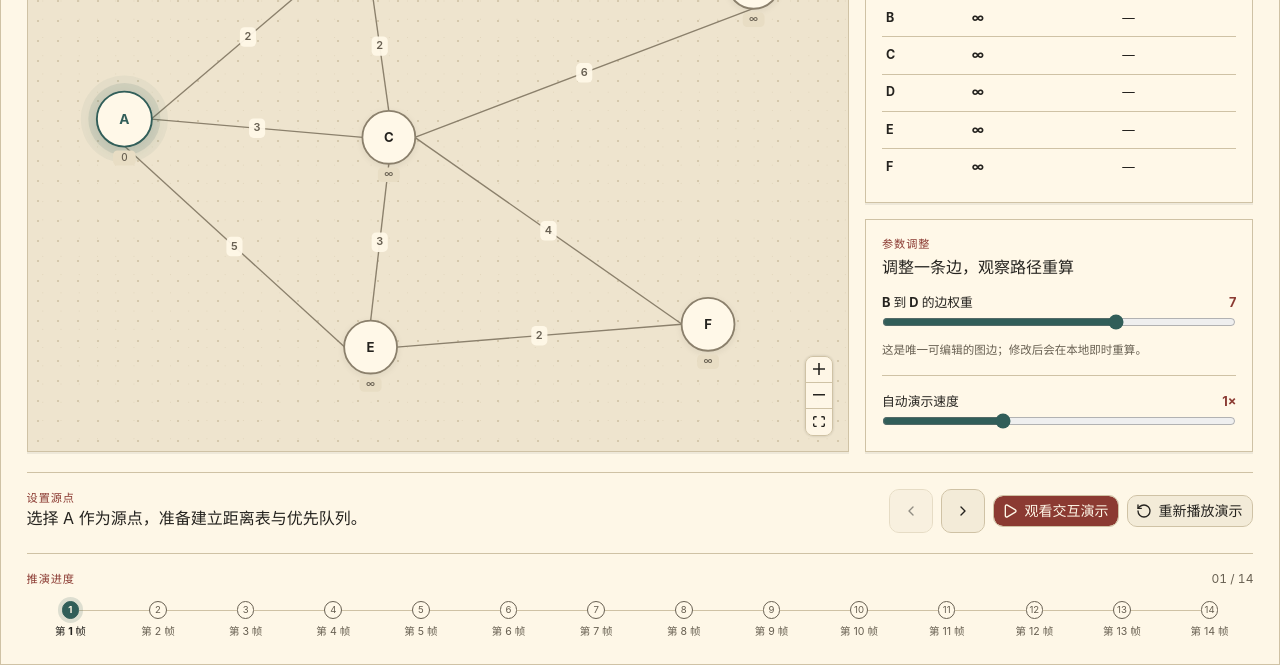
Test case: DijkstraDemo › steps with native previous and next buttons and disables them at frame boundaries
(page scrolled)
Expected: the button named "上一帧" is disabled, [889, 489, 933, 533]
Click the button named "下一帧".
click(963, 511)  # box [941, 489, 985, 533]
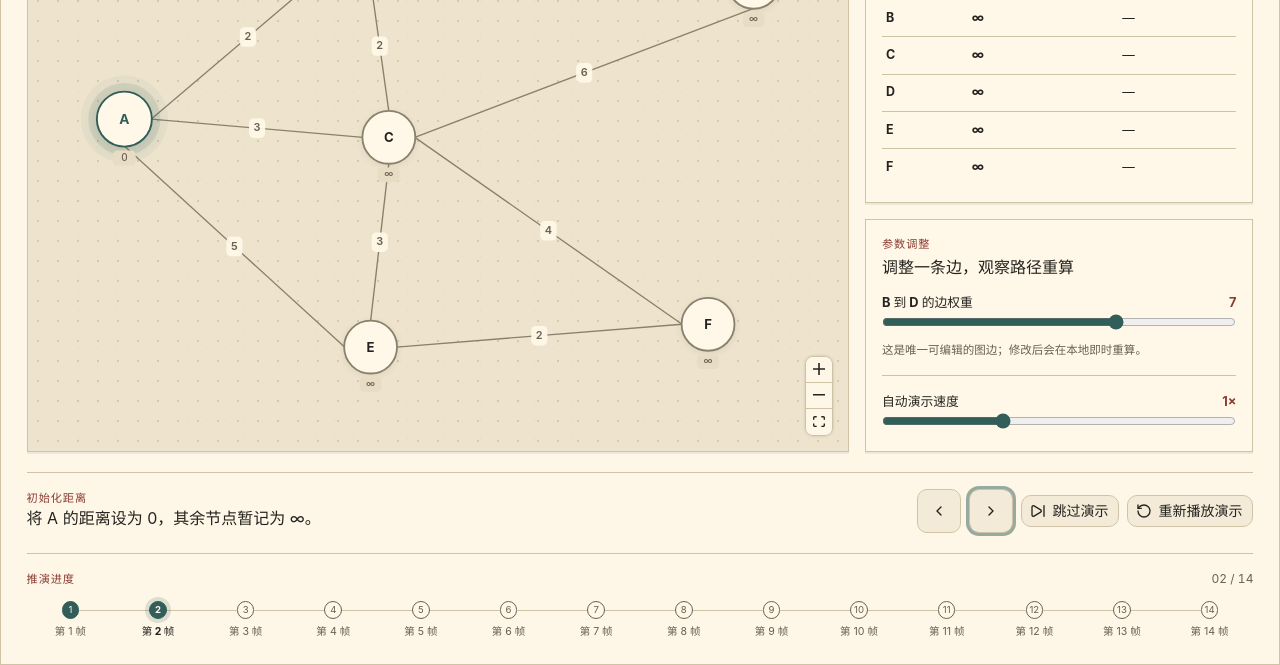
Result: the button named "上一帧" is enabled at [917, 489, 961, 533]
Click the button named "跳到第 14 帧".
click(1210, 610)  # box [1201, 601, 1218, 619]
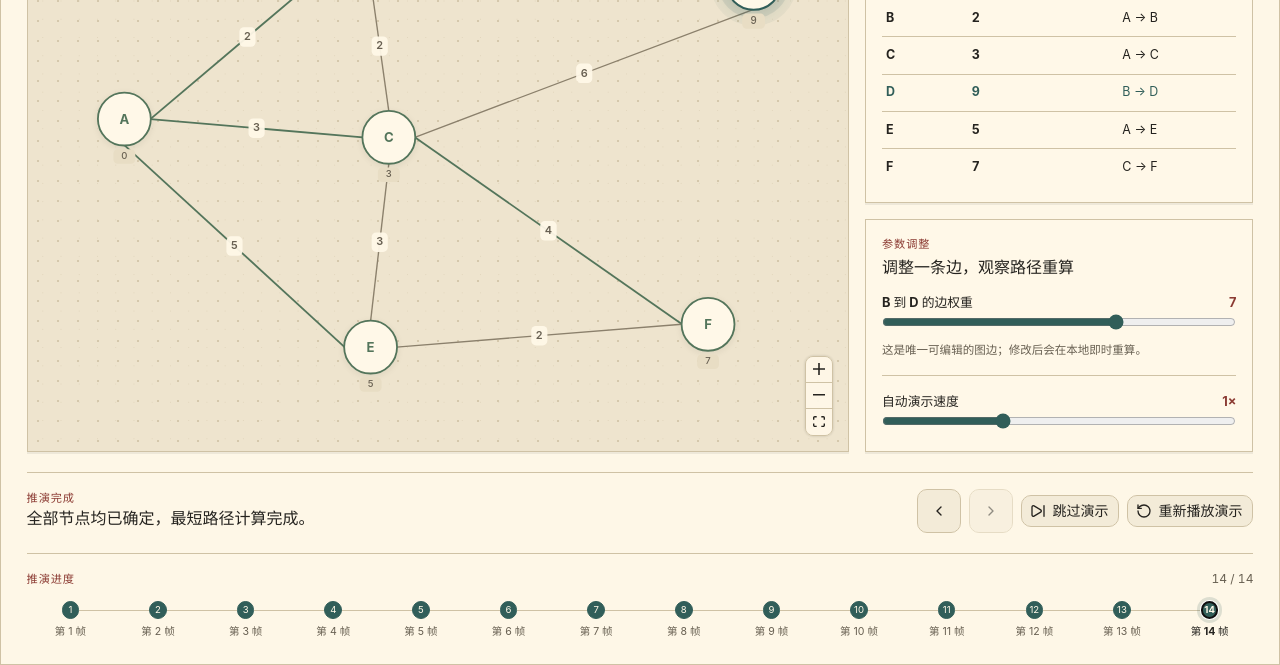
Result: the button named "下一帧" is disabled at [969, 489, 1013, 533]
